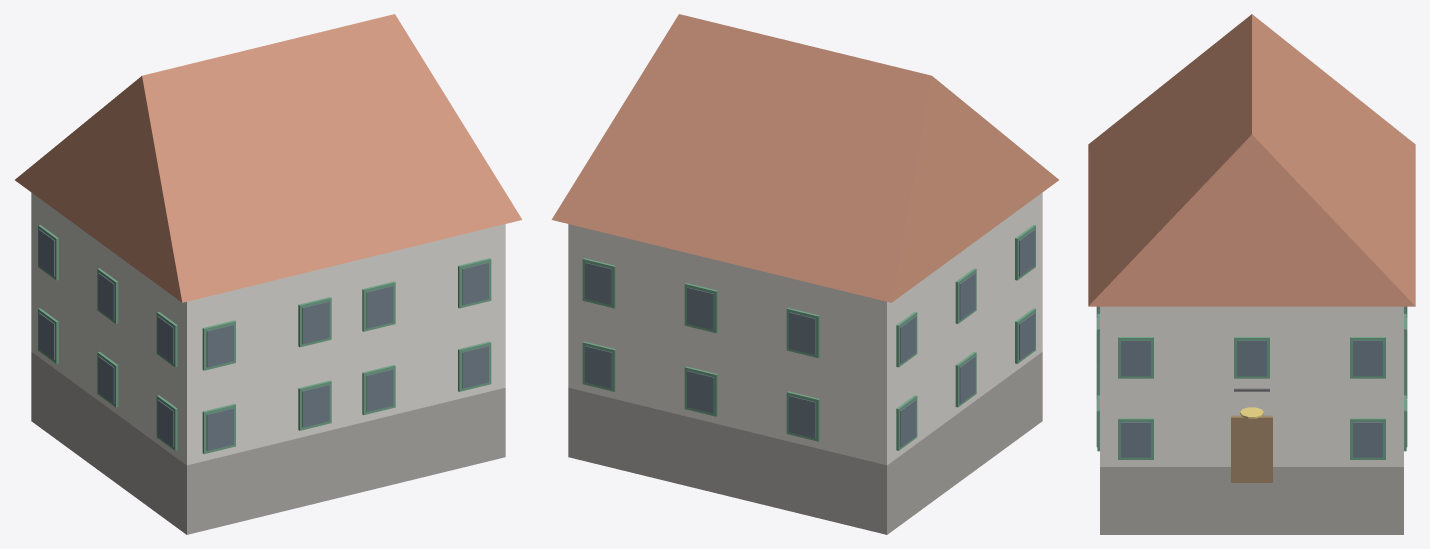
The model's file is inn-landgasthof-krone.glb.
3 renders of one model, left to right at view 1: azimuth 30°, elevation 25°; view 2: azimuth 150°, elevation 25°; view 3: azimuth 270°, elevation 25°, orthographic. The views are drawn at different scales.
Visible parts, largest first — view 1: building; view 2: building; view 3: building.
Part boxes in pixels (left/top/right/bottom): building: left=15, top=14, right=522, bottom=534; building: left=551, top=14, right=1058, bottom=534; building: left=1088, top=14, right=1415, bottom=534.
Bounding box in the file's own units: 13.93 × 14.18 × 10.94.
